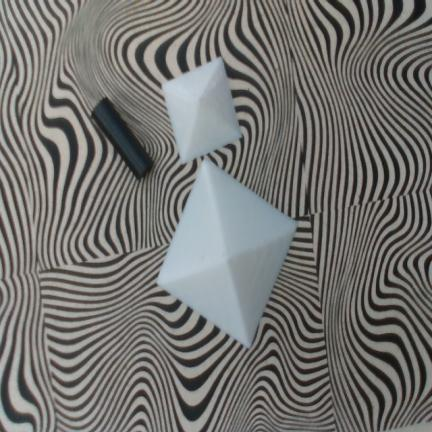Cilindro: (92, 97, 153, 179)
Piramide: (156, 158, 298, 349), (162, 56, 242, 163)
